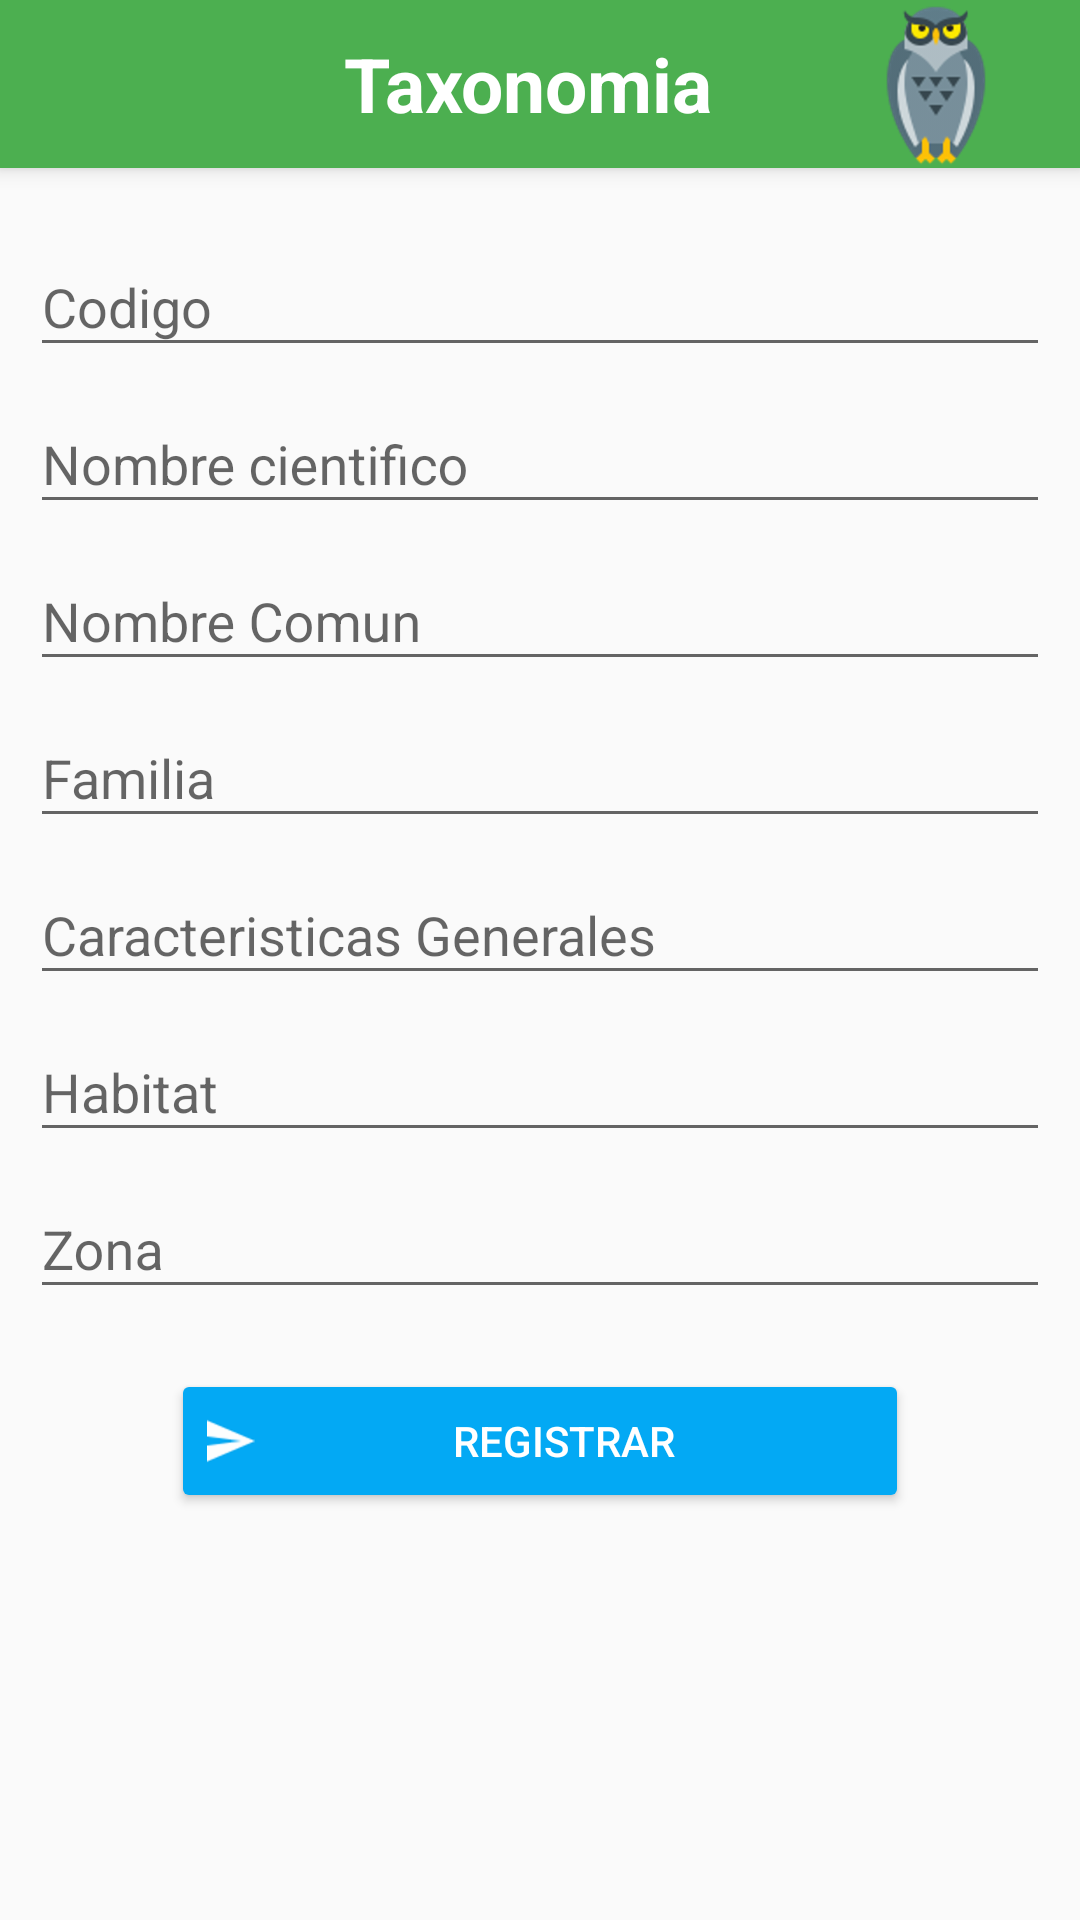

Screen size 1080*1920. Icon name, then its box in pixels as (x1, y1, x2, y2):
aves: (887, 7, 985, 164)
